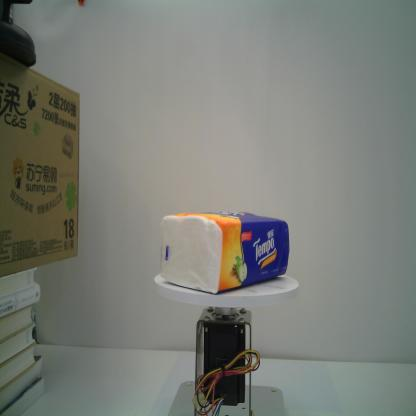Tissue: (158, 207, 291, 296)
